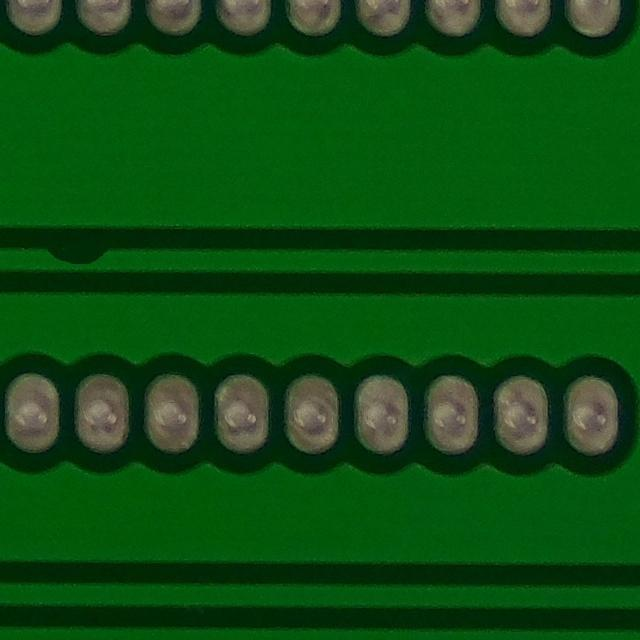mouse_bite: (31, 232, 117, 287)
